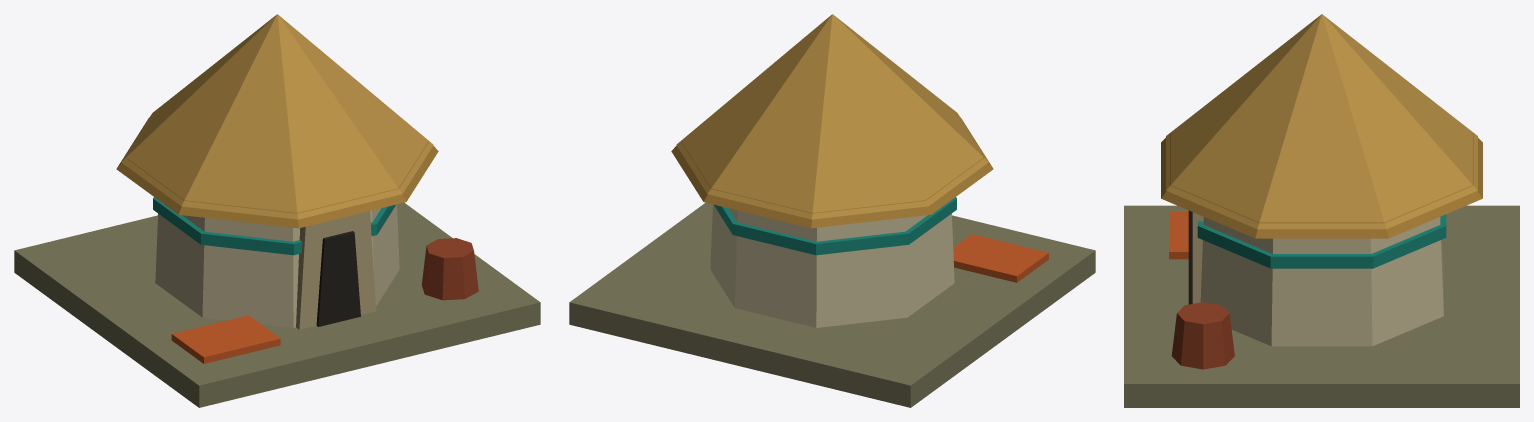
Rendered from house_t1.glb.
The picture shows the model from 3 angles, left to right: view 1: azimuth 30°, elevation 25°; view 2: azimuth 150°, elevation 25°; view 3: azimuth 270°, elevation 25°; orthographic projection. The views are drawn at different scales.
Visible parts, largest first — view 1: body; view 2: body; view 3: body.
Part boxes in pixels (left/top/right/bottom): body: left=14, top=14, right=540, bottom=407; body: left=569, top=14, right=1095, bottom=407; body: left=1124, top=14, right=1519, bottom=407.
Size of the model in its own units: 1.6 by 1.27 by 1.5.
